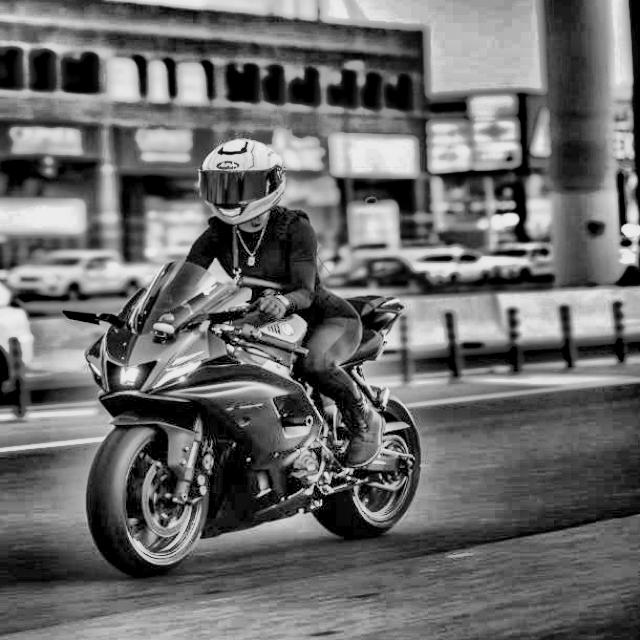Helmet: (193, 136, 290, 230)
